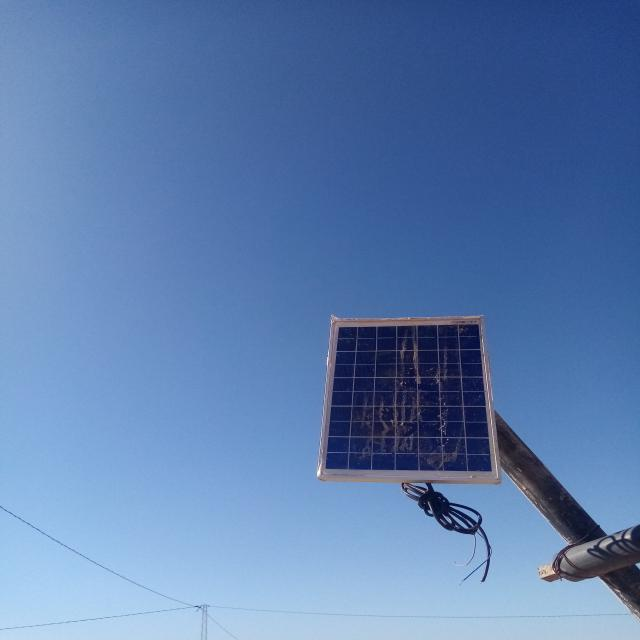faulty: (319, 316, 501, 481)
